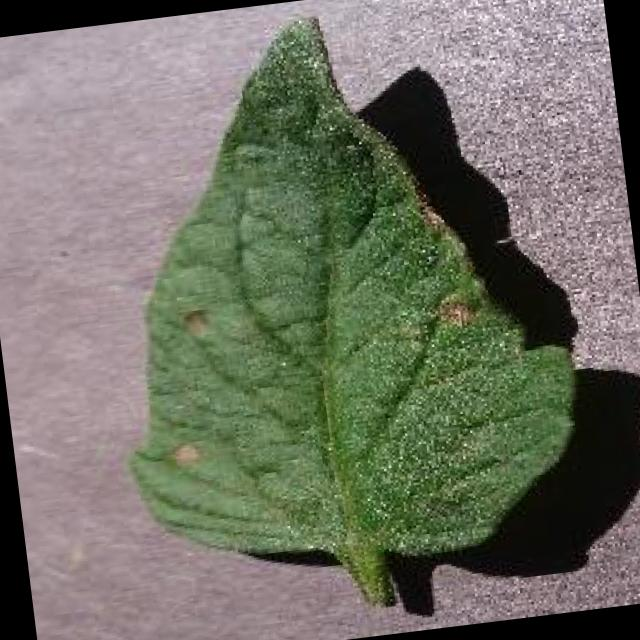Tomato_Early_Blight: (103, 1, 533, 550)
